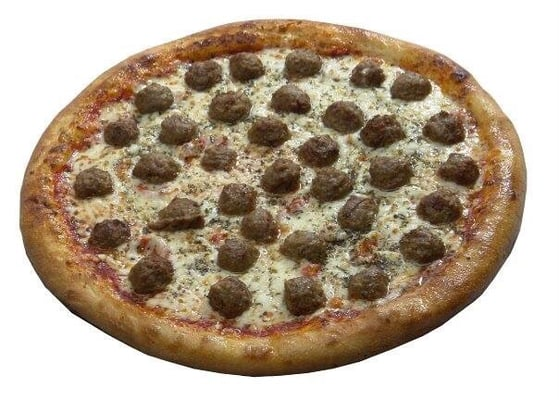sandwich: (23, 20, 513, 374)
